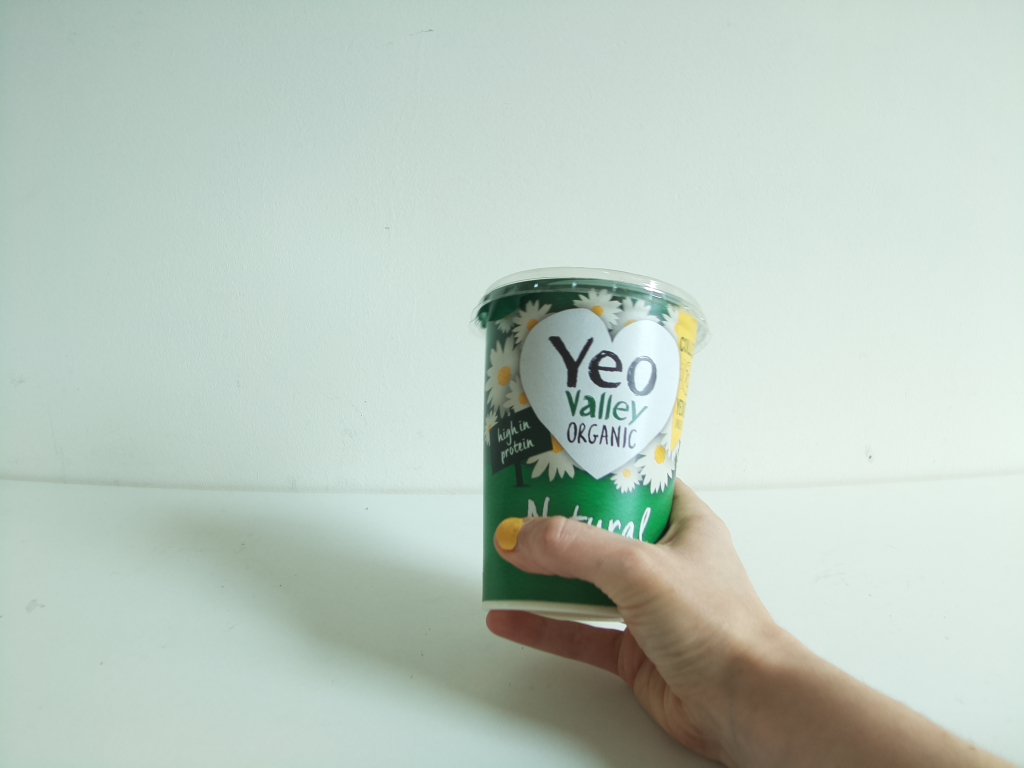yogurt: (473, 266, 715, 633)
